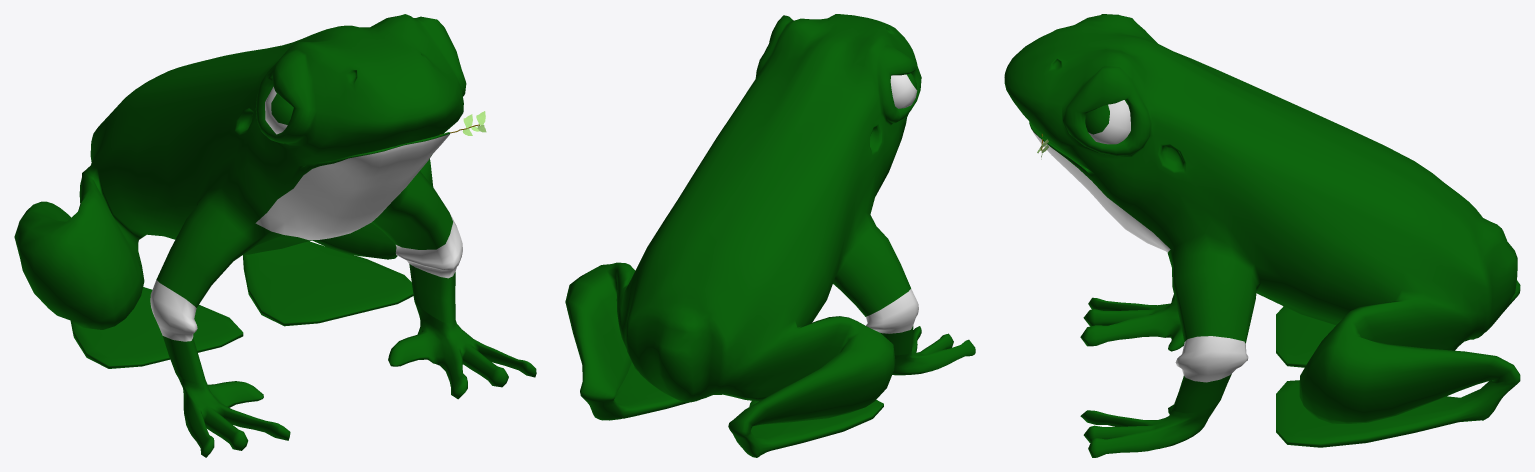
Rendered from OYAGAERU.fbx.
3 views of the same model, side by side, from view 1: azimuth 30°, elevation 25°; view 2: azimuth 150°, elevation 25°; view 3: azimuth 270°, elevation 25° (orthographic). The views are drawn at different scales.
Visible parts, largest first — view 1: pSphere5; view 2: pSphere5; view 3: pSphere5.
Boxes of the visible parts, box(x1,y1,x2,y2) form: pSphere5: box(14, 14, 536, 457); pSphere5: box(565, 14, 975, 457); pSphere5: box(1004, 14, 1520, 457).
Size of the model in its own units: 10.8 by 9.86 by 13.13.
